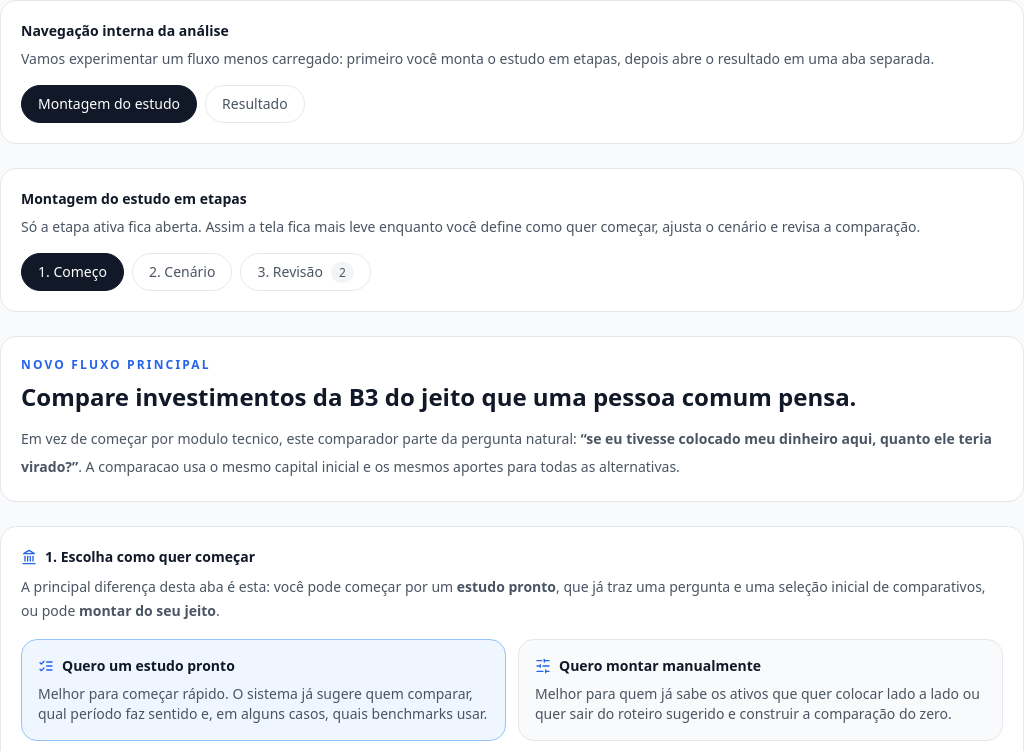
Test: InvestmentsWorkspace › switches between setup tabs to reduce visible information
This screenshot has width=1024, height=751.
Expected: the text "1. Escolha como quer começar" is shown, [21, 547, 255, 566]
Click the button "2. Cenário" at (182, 272), box [132, 253, 232, 291]
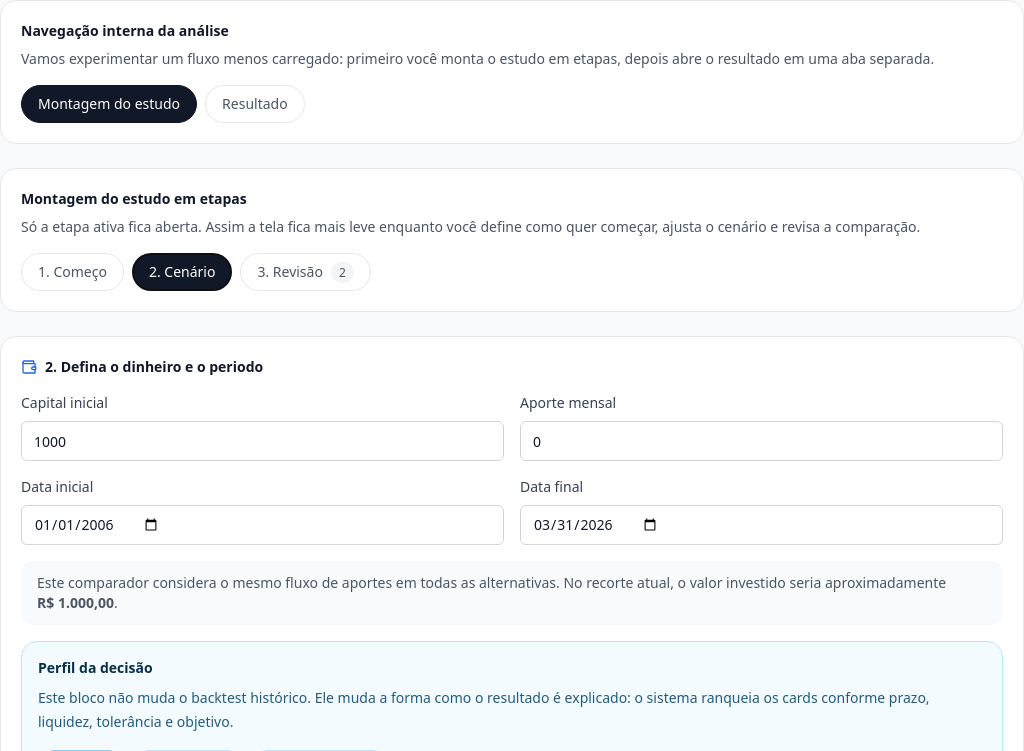
Now the text "1. Escolha como quer começar" is gone
Now the text "2. Defina o dinheiro e o periodo" is shown, box [21, 357, 263, 376]
Now the text "Perfil da decisão" is shown, box [38, 658, 153, 677]
